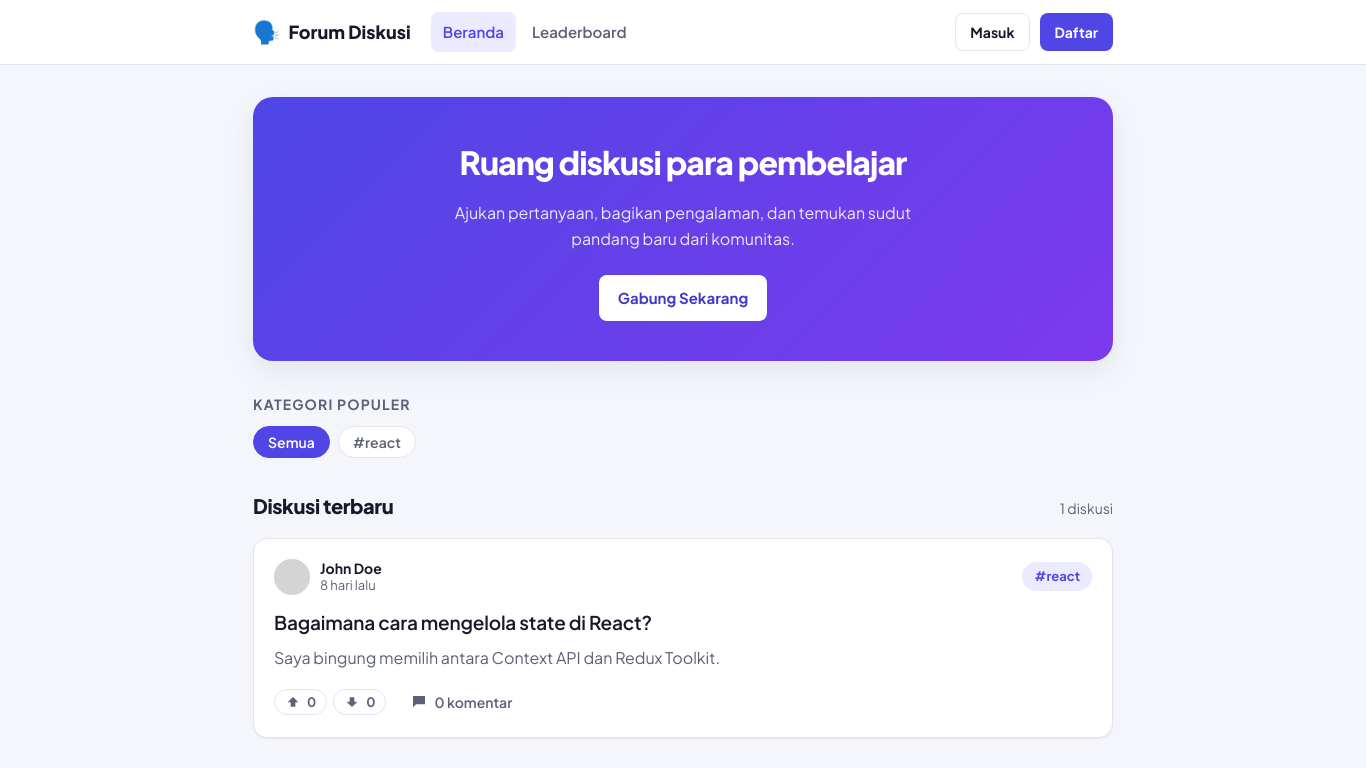
Scenario: Beranda & Filter Kategori › harus membuka halaman leaderboard dari menu navigasi
Click the link "Leaderboard".
click(580, 32)  # box [532, 22, 627, 41]
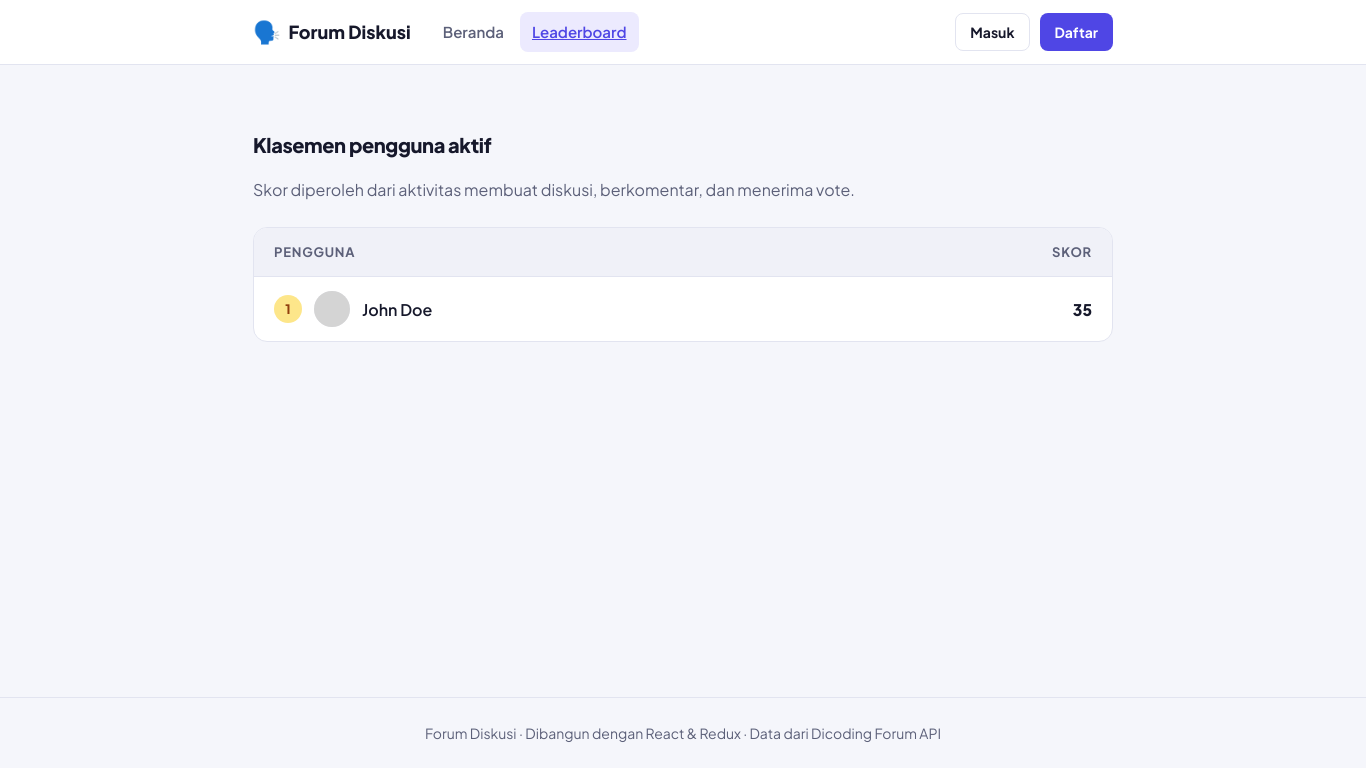
Check: the heading "Klasemen pengguna aktif" is shown, box [253, 129, 491, 161]
Check: the text "35" is shown, box [1073, 297, 1092, 322]
